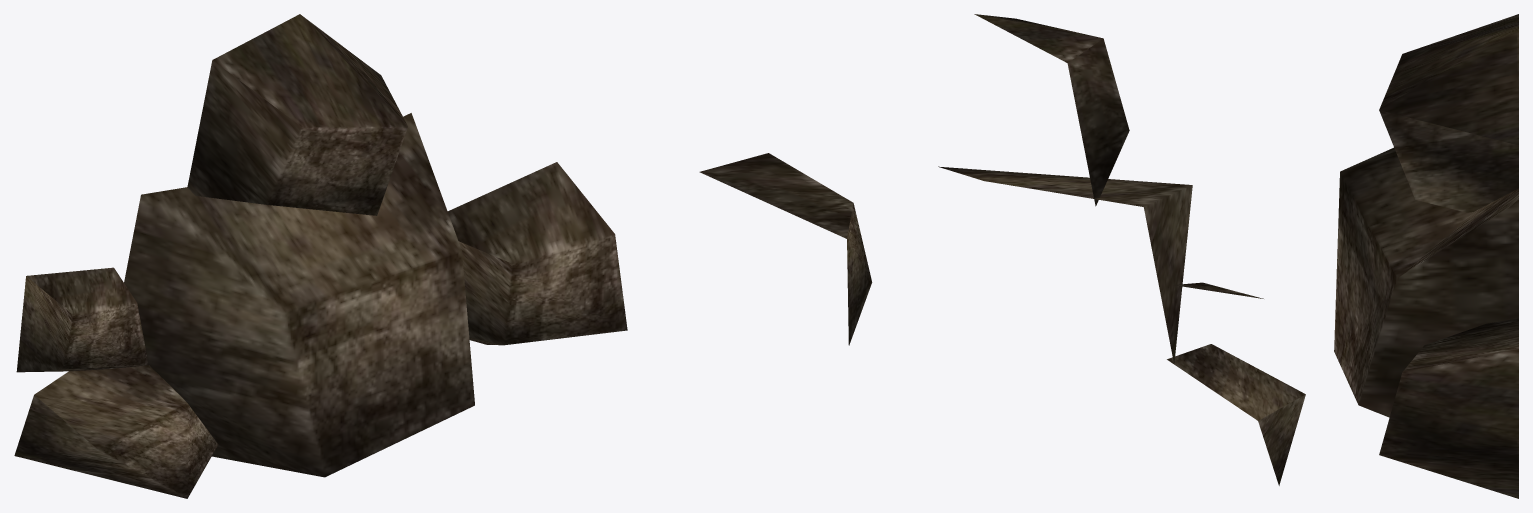
The picture shows the model from 3 angles, left to right: view 1: azimuth 30°, elevation 25°; view 2: azimuth 150°, elevation 25°; view 3: azimuth 270°, elevation 25°; orthographic projection. The views are drawn at different scales.
Visible parts, largest first — view 1: model_Object66; view 2: model_Object66; view 3: model_Object66.
Part boxes in pixels (x1,y1,x2,y2): model_Object66: [14, 14, 627, 498]; model_Object66: [699, 14, 1305, 485]; model_Object66: [1334, 14, 1518, 498].
Bounding box in the file's own units: 2.7 × 1.92 × 0.7834.
1 material, 1 textured.
